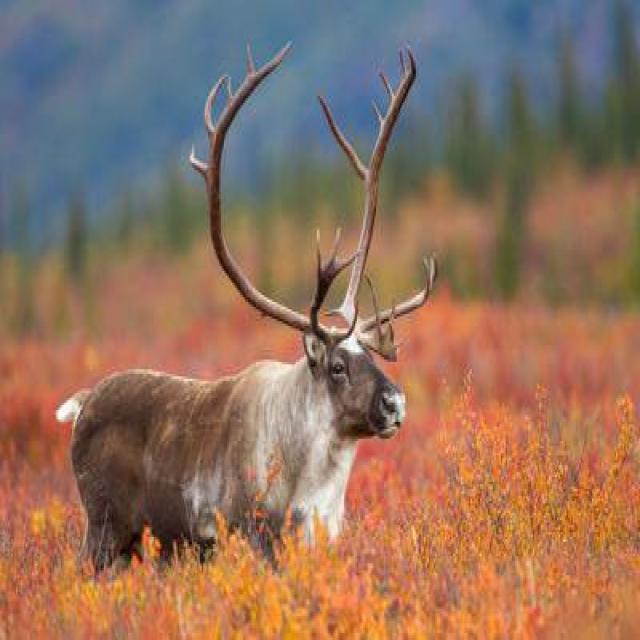Reindeer: (52, 35, 456, 583)
